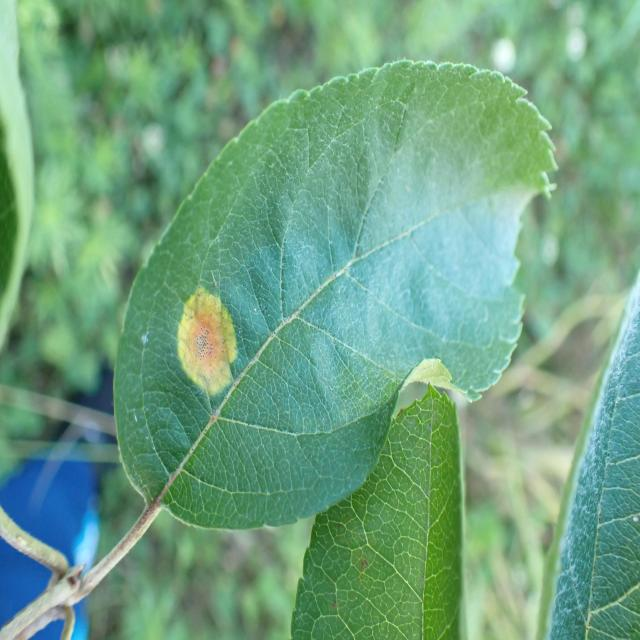Rust: (173, 263, 259, 421)
